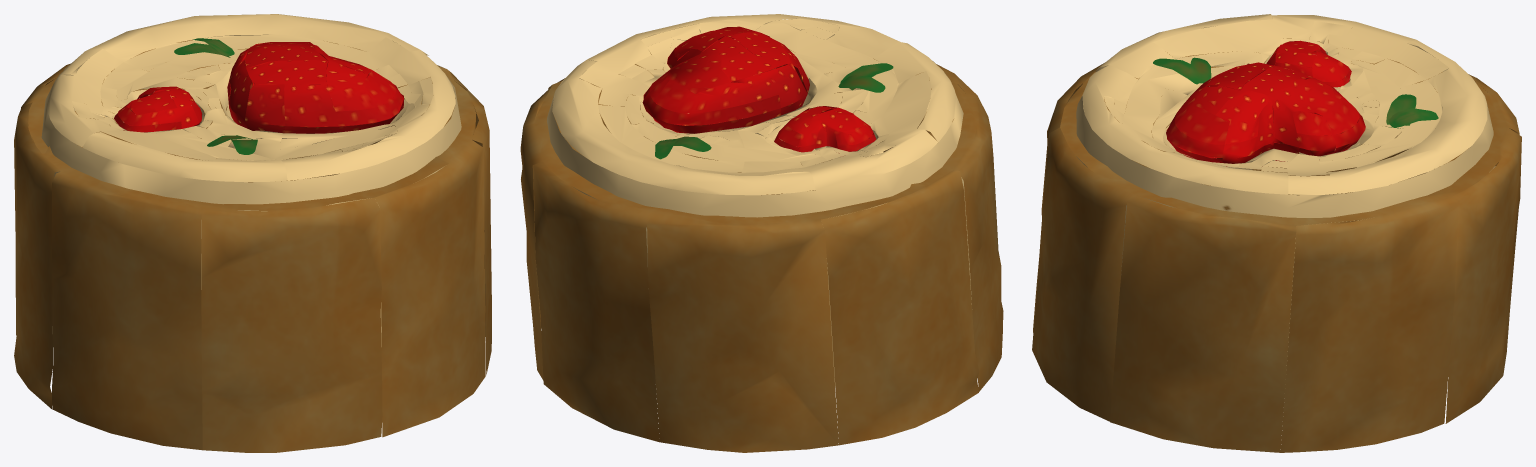
The model's file is Tart.002_LOD0.fbx.
The picture shows the model from 3 angles, left to right: view 1: azimuth 30°, elevation 25°; view 2: azimuth 150°, elevation 25°; view 3: azimuth 270°, elevation 25°; orthographic projection.
Parts seen in each view (by area): view 1: Tart_002_Tart_002_0; view 2: Tart_002_Tart_002_0; view 3: Tart_002_Tart_002_0.
Part boxes in pixels (x1,y1,x2,y2): Tart_002_Tart_002_0: (14, 14, 491, 452); Tart_002_Tart_002_0: (520, 14, 1003, 452); Tart_002_Tart_002_0: (1032, 14, 1521, 452).
Bounding box in the file's own units: 56.76 × 38.69 × 57.9.
